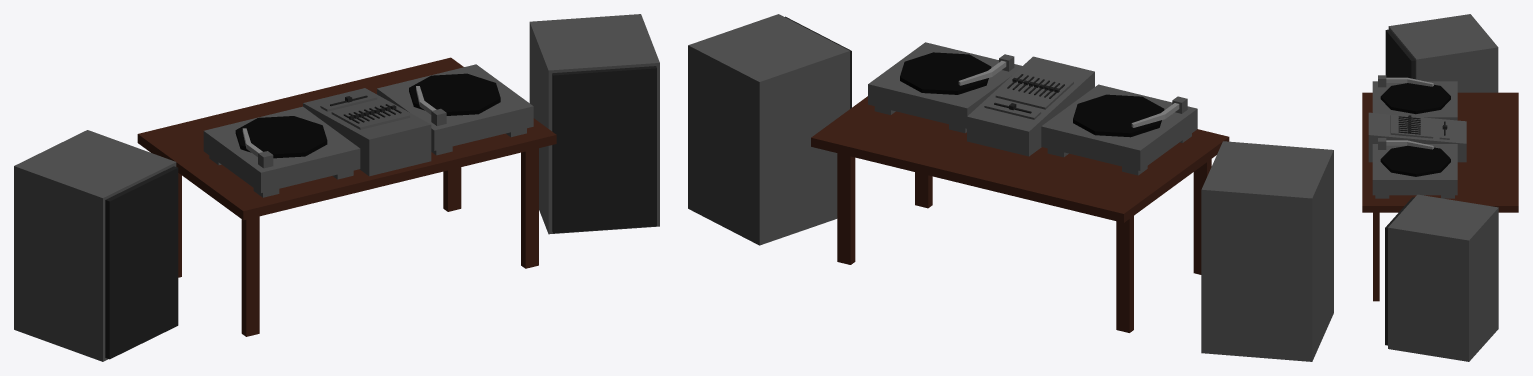
File: MusicPlace2.dae
The picture shows the model from 3 angles, left to right: view 1: azimuth 30°, elevation 25°; view 2: azimuth 150°, elevation 25°; view 3: azimuth 270°, elevation 25°; orthographic projection. The views are drawn at different scales.
Parts seen in each view (by area): view 1: MusicPlace2; view 2: MusicPlace2; view 3: MusicPlace2.
Boxes of the visible parts, x1,y1,x2,y2 form: MusicPlace2: [14, 14, 659, 361]; MusicPlace2: [688, 14, 1333, 361]; MusicPlace2: [1362, 14, 1518, 361].
Bounding box in the file's own units: 15.24 × 4.45 × 4.01.
